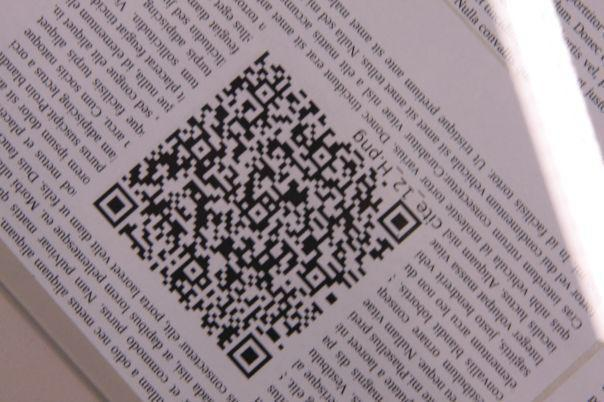qr_code: (93, 49, 422, 379)
